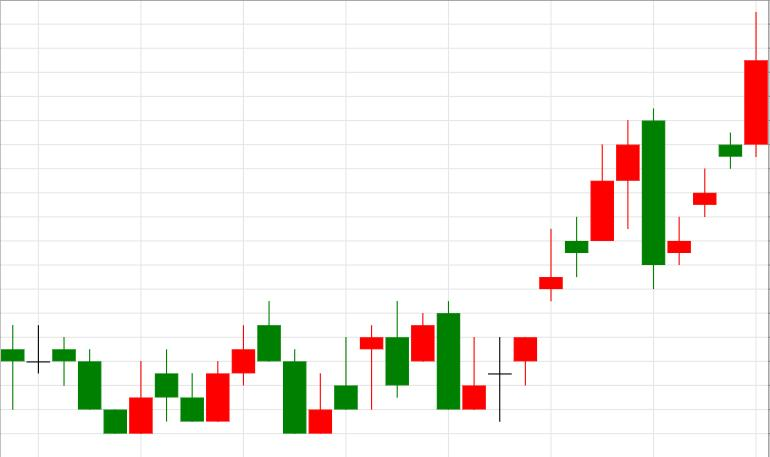bearish_engulfing_fall: (462, 108, 666, 421)
bullish_engulfing_rise: (1, 324, 153, 434)
